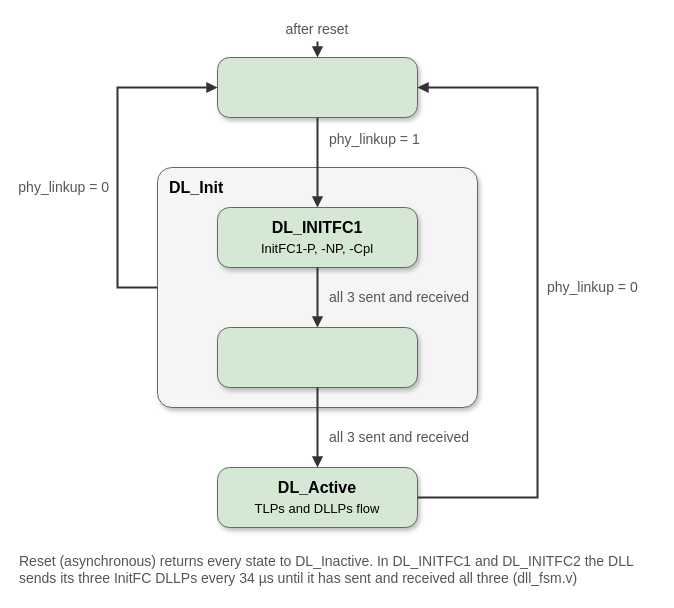
Image size: 674x608. Some labels were removed from this diagram. The shapes that lost their labels are listed below. From the top down, each one's centre as x and y in pixels, then its label:
the point at 318,88: DL_Inactive link not usable
the point at 318,358: DL_INITFC2 InitFC2-P, -NP, -Cpl
